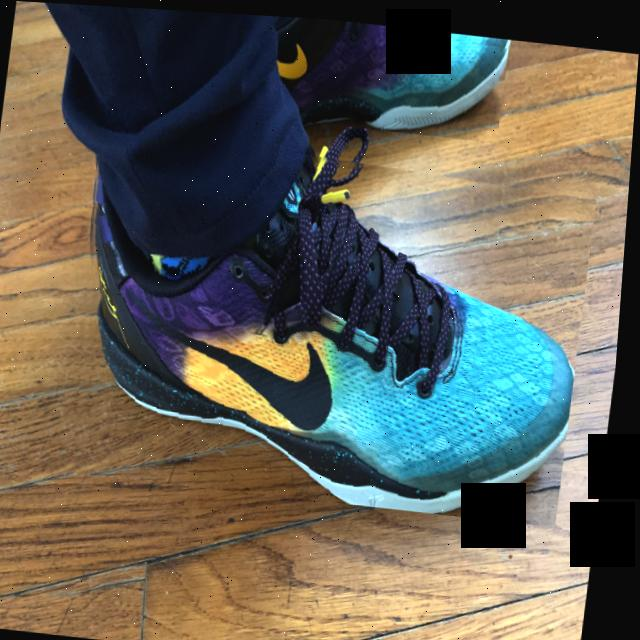shoe: (62, 120, 603, 521), (259, 12, 511, 137)
